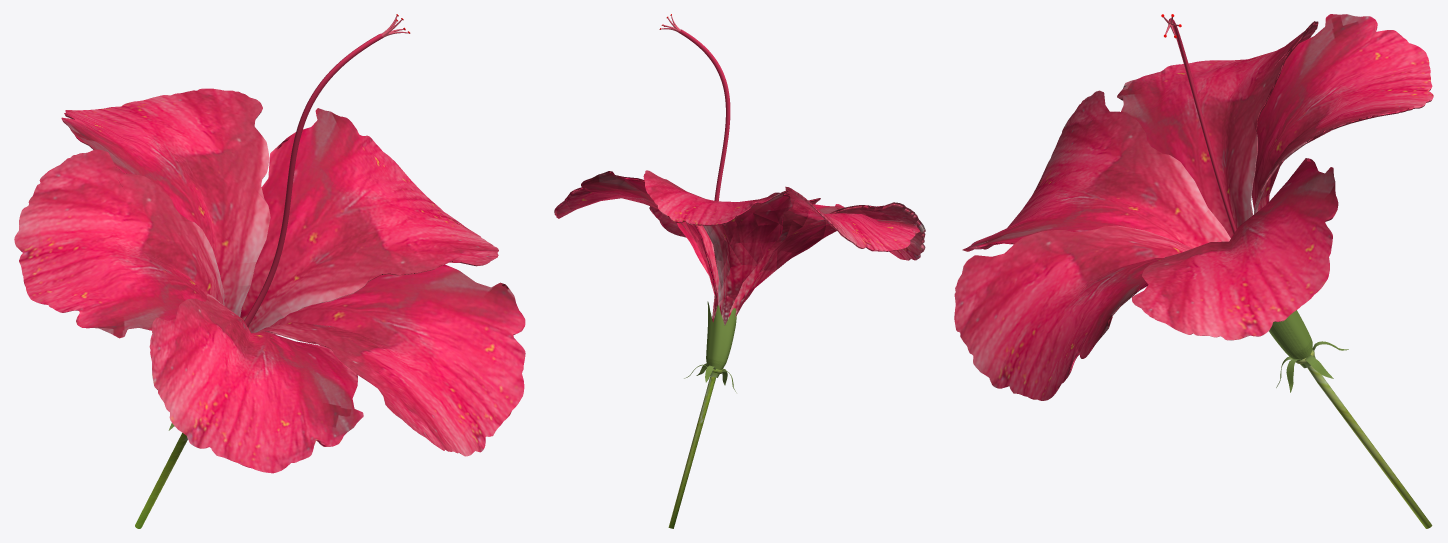
The picture shows the model from 3 angles, left to right: view 1: azimuth 30°, elevation 25°; view 2: azimuth 150°, elevation 25°; view 3: azimuth 270°, elevation 25°; orthographic projection. The views are drawn at different scales.
Visible parts, largest first — view 1: polySurface275, polySurface475.001, polySurface479; view 2: polySurface275, polySurface479, polySurface475.001; view 3: polySurface275, polySurface479, polySurface475.001.
Part boxes in pixels (x1,y1,x2,y2): polySurface275: (14,88,525,473); polySurface475.001: (244,14,410,326); polySurface479: (135,423,187,528); polySurface275: (554,170,925,325); polySurface479: (668,301,736,528); polySurface475.001: (659,14,730,269); polySurface275: (954,14,1433,400); polySurface479: (1269,310,1432,528); polySurface475.001: (1161,14,1236,234).
Size of what is drawn, in the model's own units: 0.597 by 0.7164 by 0.5376.
Materials: 8 (4 with a texture image).
